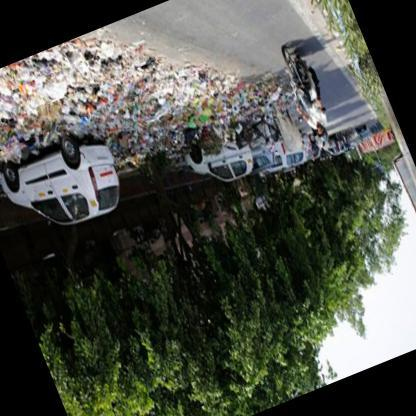Garbage: (0, 44, 94, 175), (80, 48, 172, 170), (164, 66, 263, 150), (67, 48, 161, 118)
